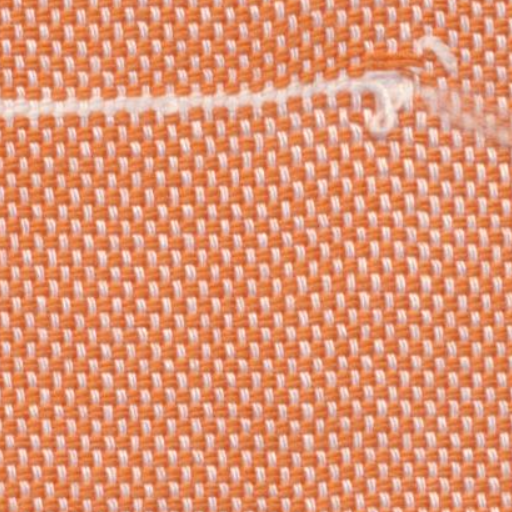DuanSha: (352, 27, 488, 158)
